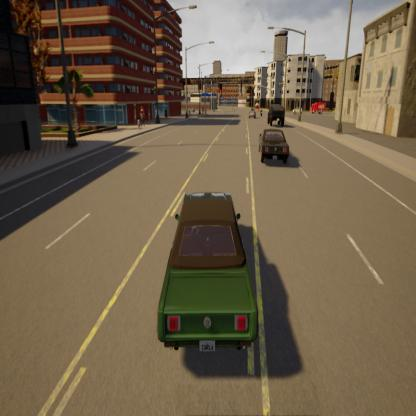Cars: (153, 185, 264, 372), (256, 124, 296, 168), (264, 95, 286, 125), (289, 103, 307, 116), (310, 101, 330, 111), (249, 108, 256, 117)
Pedestrian: (138, 104, 150, 127)
